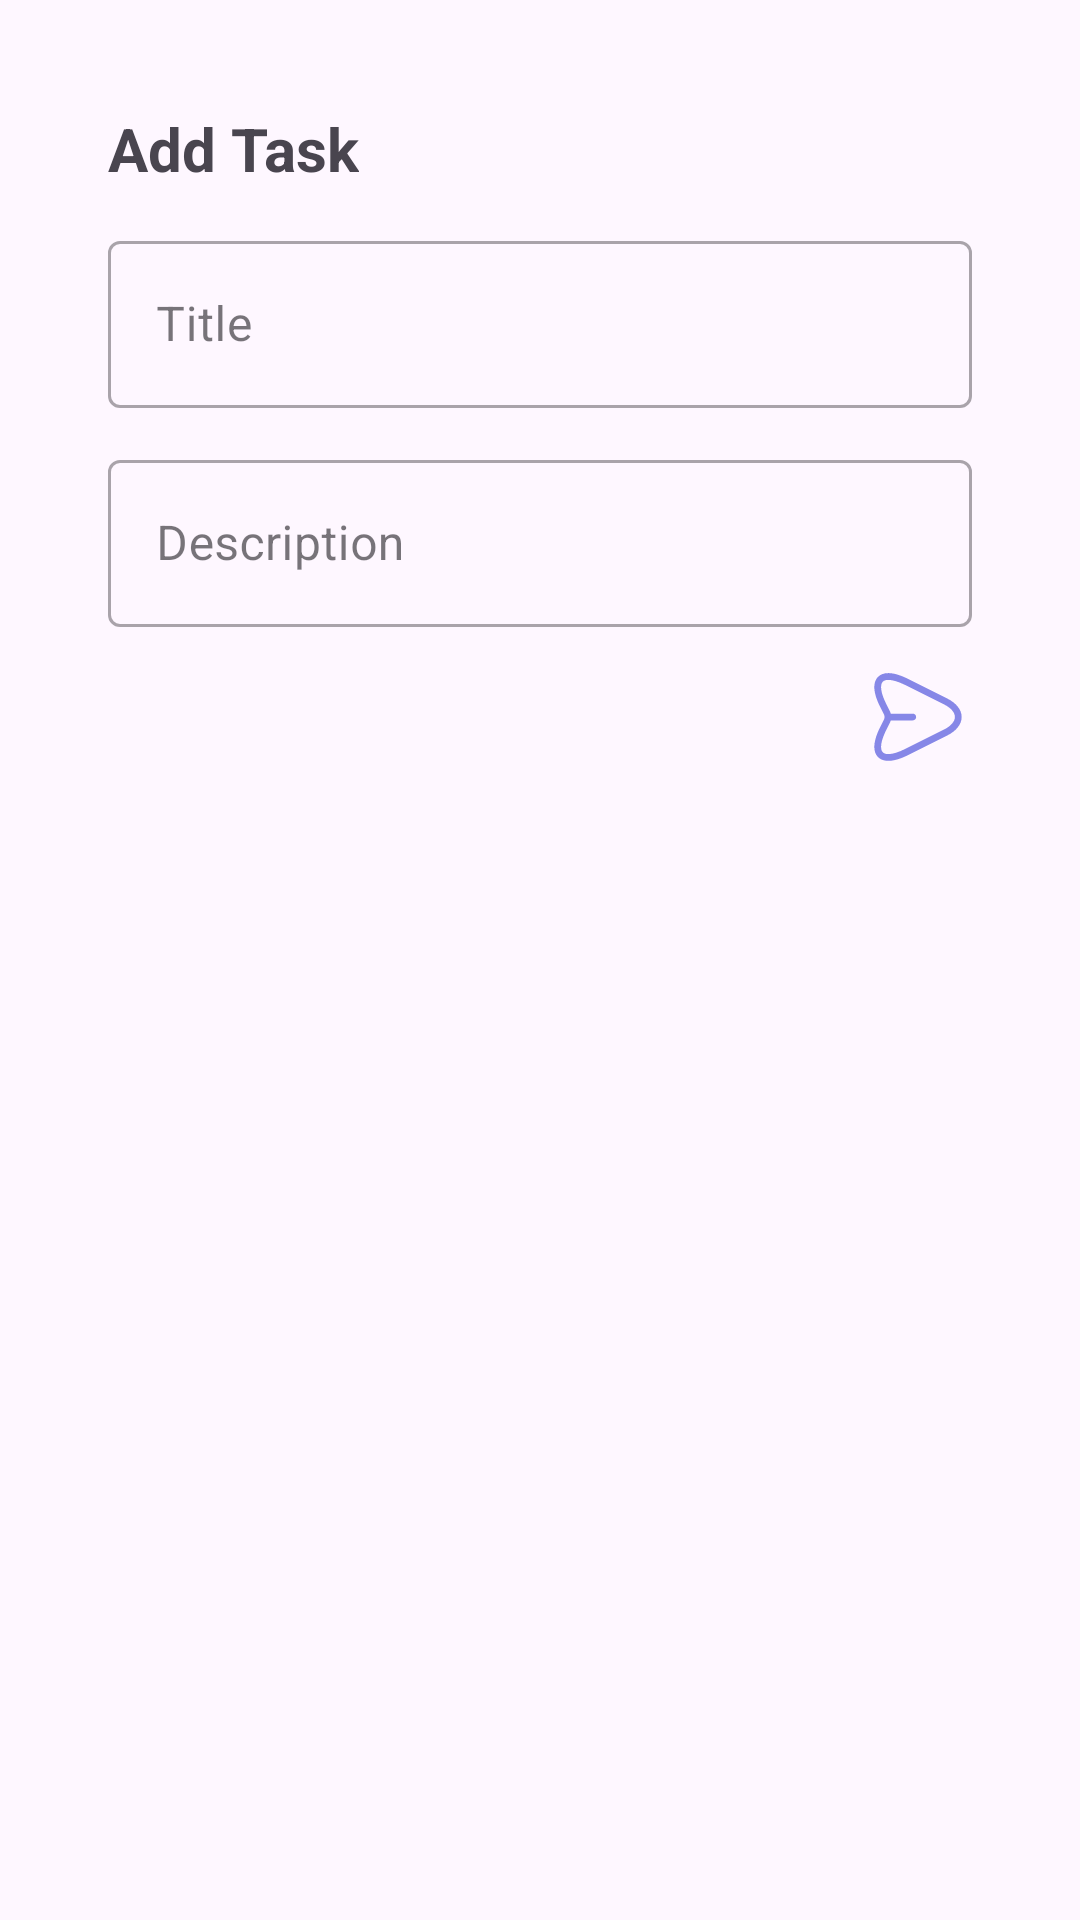

Where to tap for icons on this 1080×1920 app screen, as point (x, y):
next button: point (918, 717)
